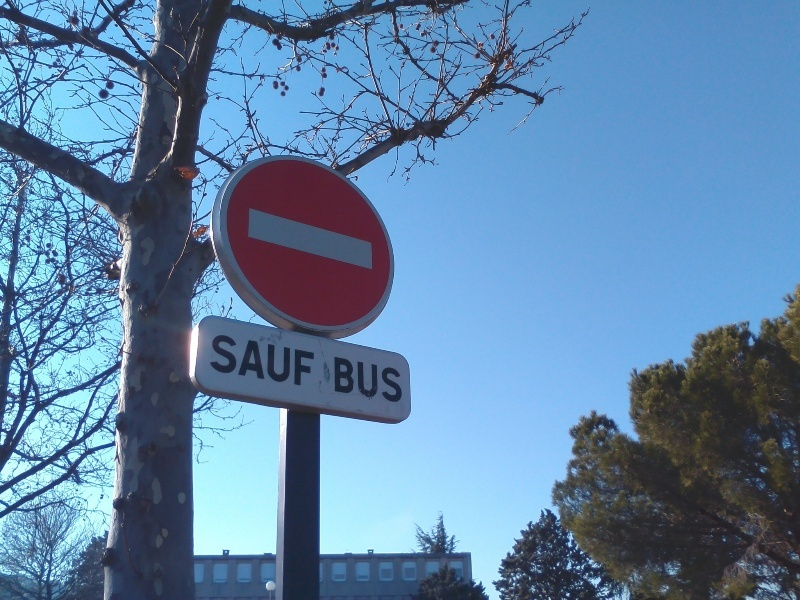text: (225, 333, 240, 389), (241, 333, 256, 389), (257, 333, 272, 389), (273, 333, 288, 389), (289, 333, 304, 389), (337, 356, 352, 404), (353, 356, 368, 404), (369, 356, 384, 404), (385, 356, 400, 404), (305, 333, 316, 389), (214, 333, 224, 389), (333, 356, 336, 404), (401, 356, 404, 404)
